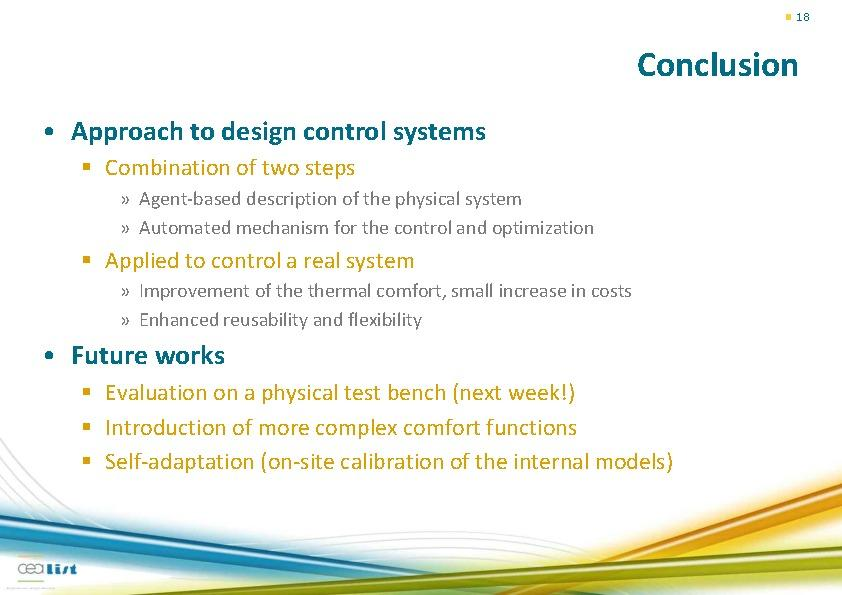paragraph: (66, 152, 687, 331), (79, 376, 711, 507)
subtitle: (40, 114, 502, 151), (30, 329, 246, 376)
title: (629, 34, 815, 95)
